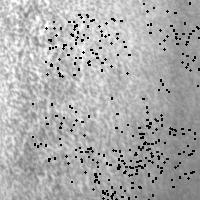pitted_surface: (1, 1, 148, 198), (32, 103, 91, 162), (70, 14, 128, 72), (136, 127, 192, 187), (111, 97, 171, 152), (45, 19, 101, 75), (65, 149, 124, 200), (136, 122, 194, 173), (98, 150, 157, 200), (84, 151, 138, 200), (158, 33, 200, 91), (143, 0, 200, 39)
